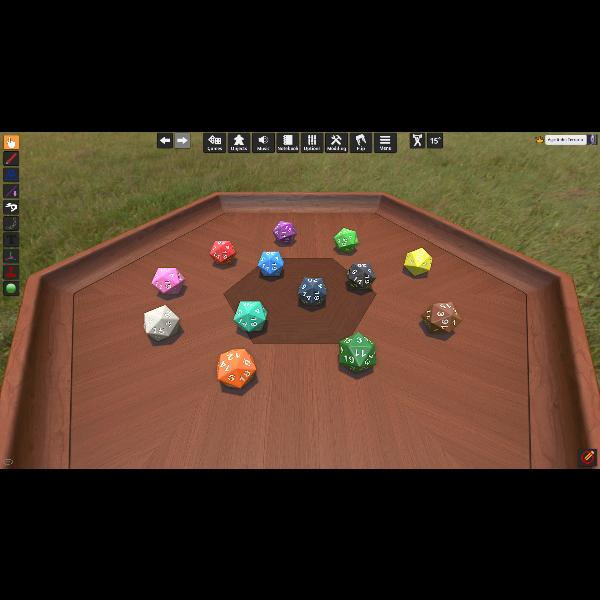d20: (217, 348, 257, 388), (340, 332, 374, 372), (144, 304, 180, 340), (420, 302, 460, 334), (234, 299, 268, 331), (152, 266, 185, 294), (298, 277, 326, 305), (346, 262, 373, 290), (403, 248, 429, 276), (258, 250, 284, 276), (334, 228, 358, 252), (273, 220, 297, 244), (210, 240, 234, 264)
